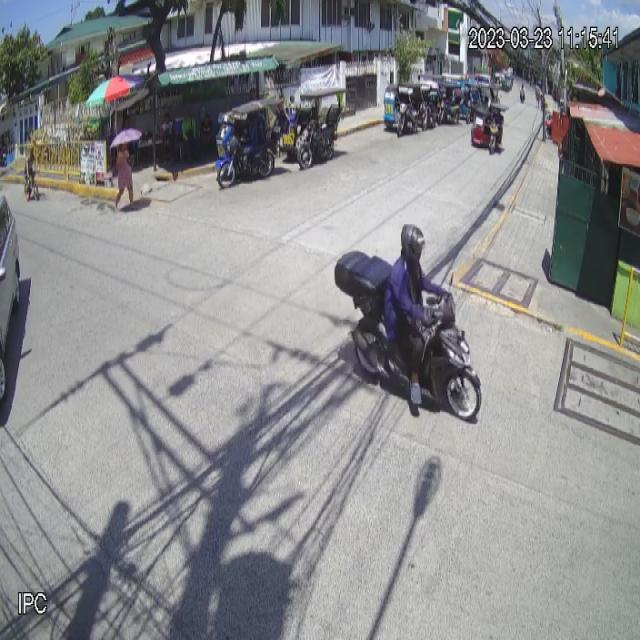Motorcycle: (333, 248, 482, 423)
